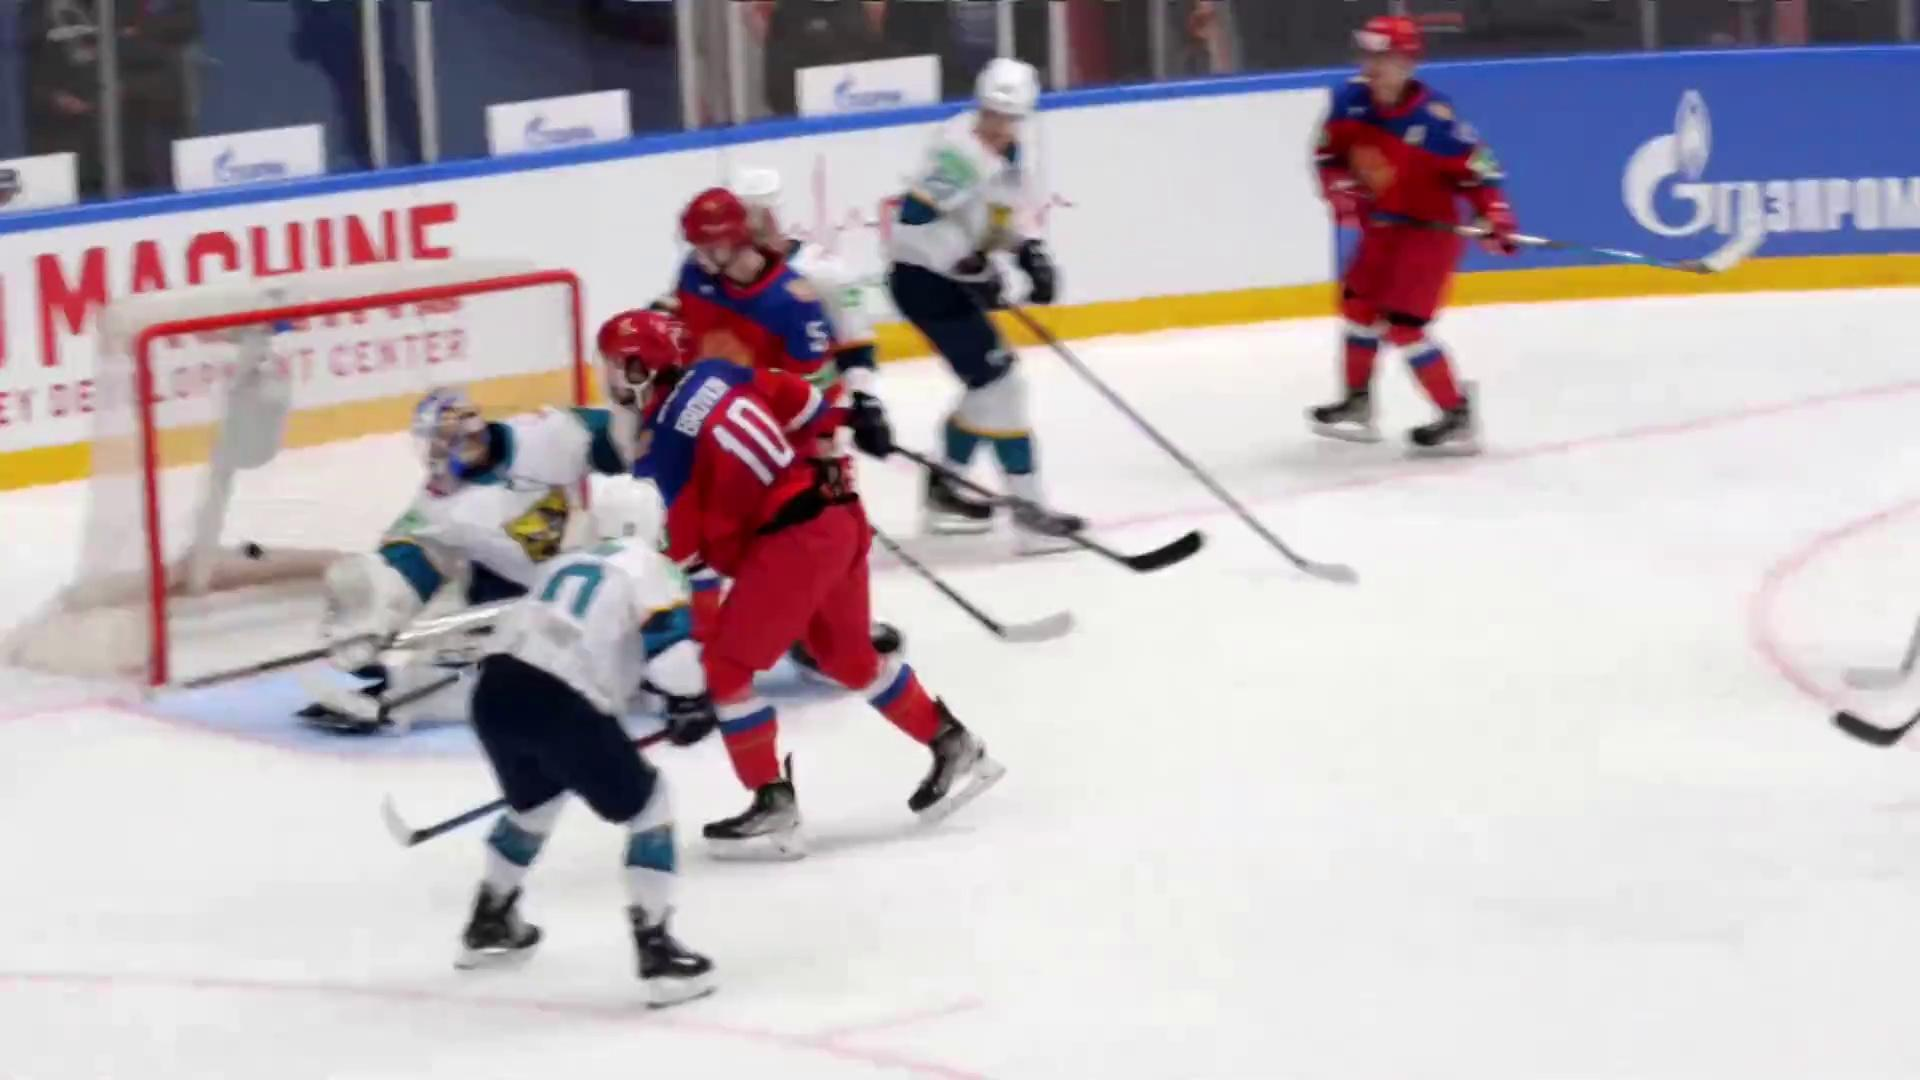ball: (240, 542, 268, 560)
